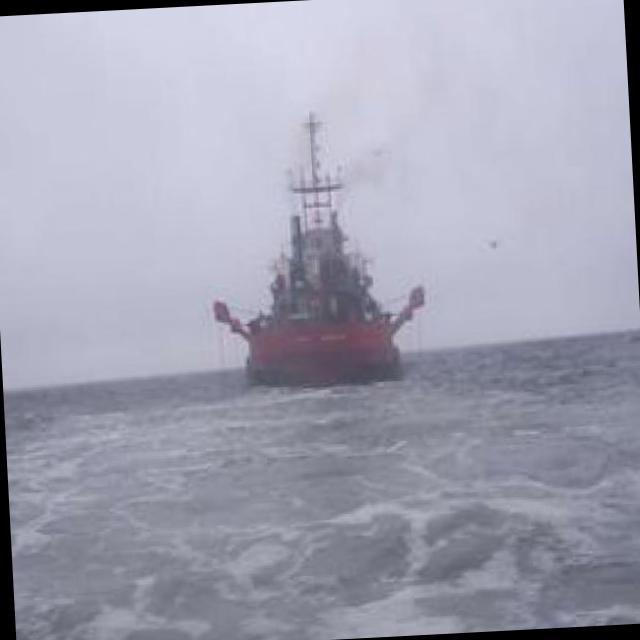boat: (185, 155, 448, 410)
